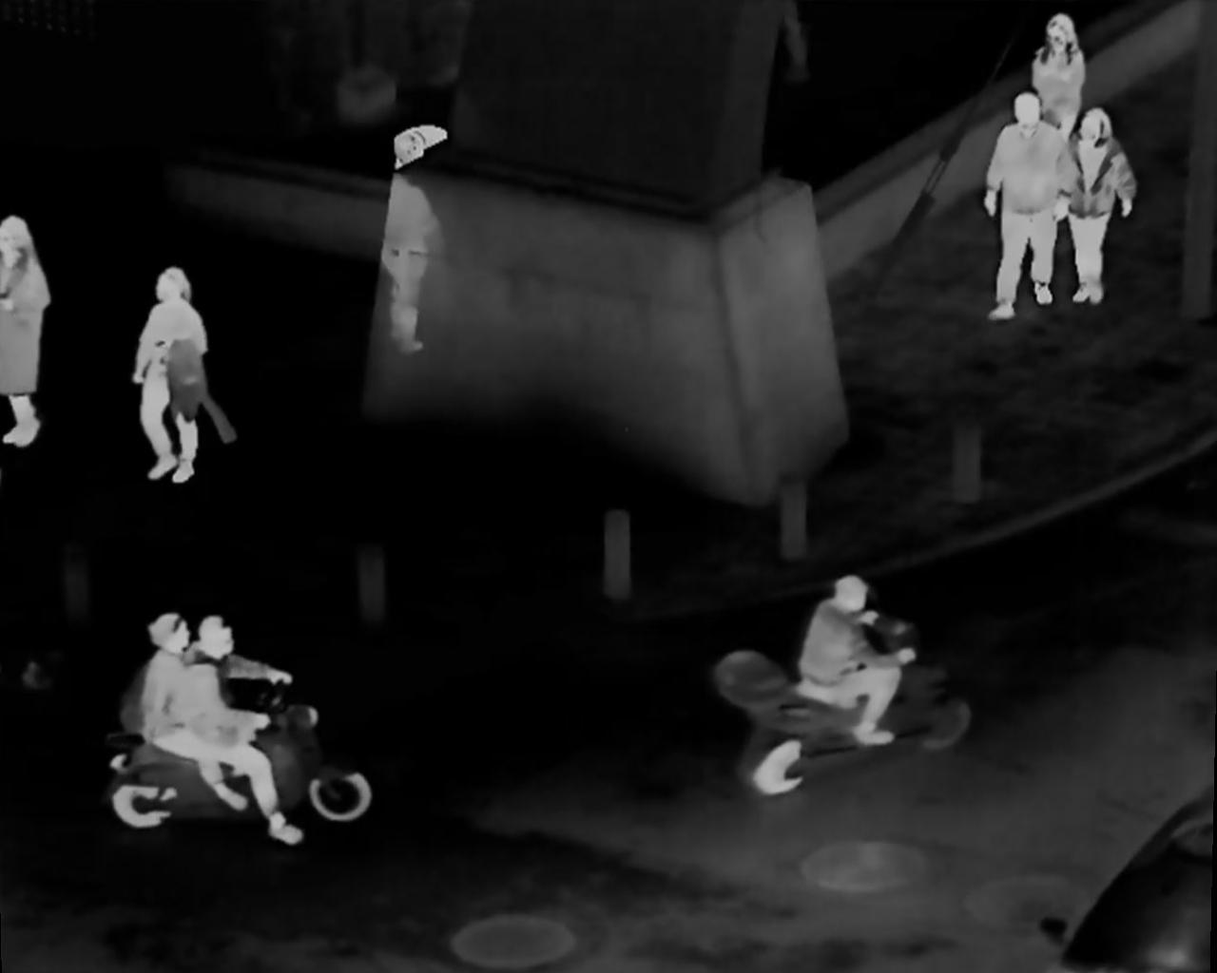person: (193, 610, 307, 852), (800, 575, 918, 778), (989, 85, 1063, 307), (132, 270, 210, 474), (1019, 17, 1091, 211), (1064, 110, 1132, 303), (135, 615, 213, 759)
